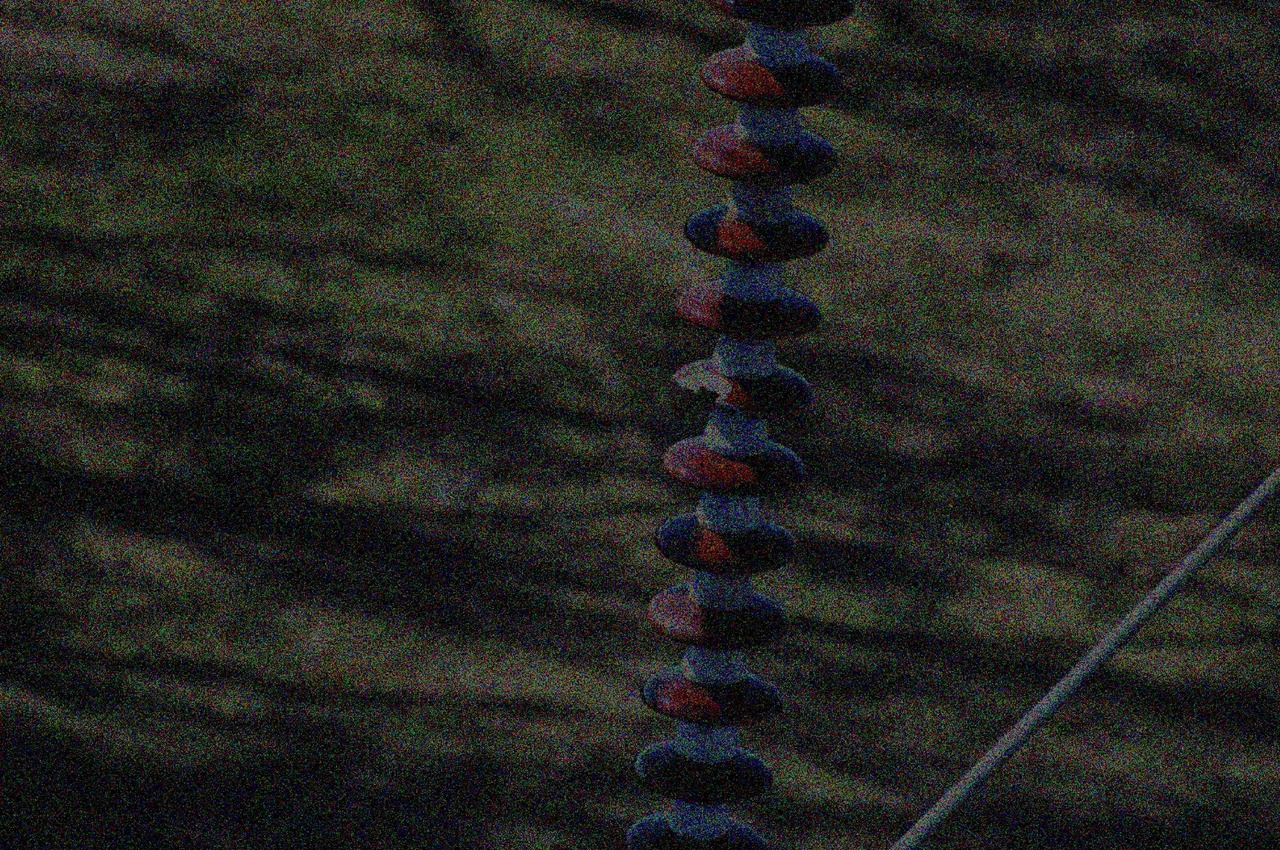Broken: (667, 336, 816, 424)
No issues: (656, 423, 808, 503), (625, 725, 777, 805), (692, 107, 843, 187), (680, 186, 831, 266), (673, 263, 824, 343), (650, 499, 801, 579), (637, 649, 788, 729), (697, 28, 849, 107), (642, 573, 793, 652), (621, 802, 771, 850)
String: (612, 0, 863, 847)
